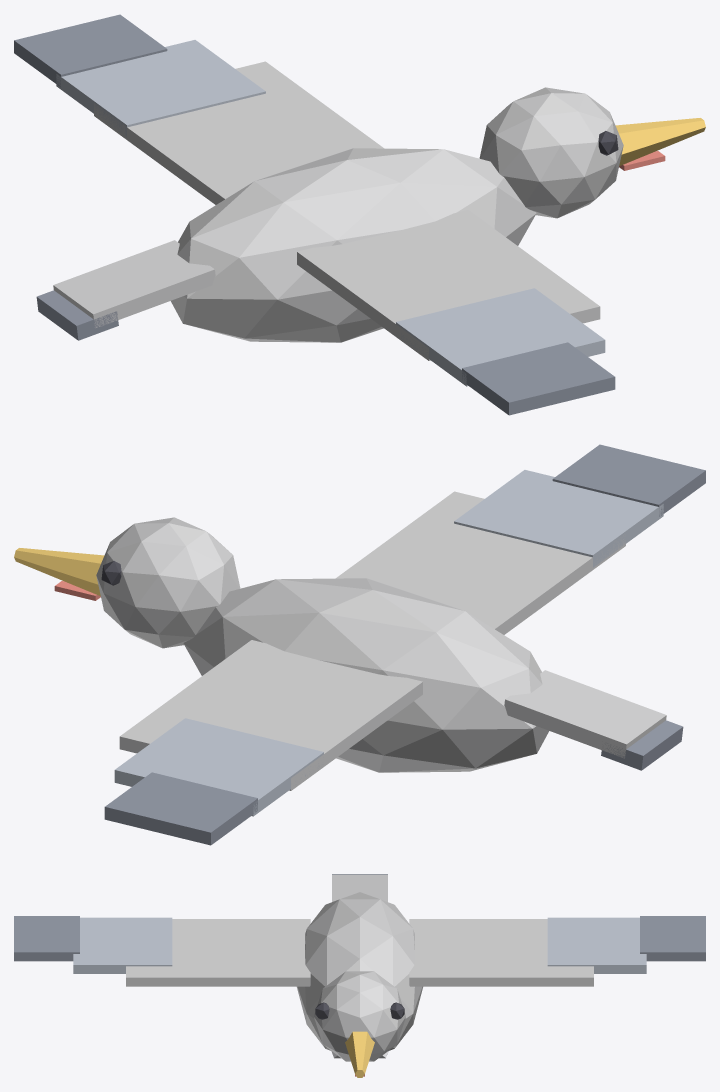
File: Sea_Gull.fbx
The picture shows the model from 3 angles, top to bottom: view 1: azimuth 30°, elevation 25°; view 2: azimuth 150°, elevation 25°; view 3: azimuth 270°, elevation 25°; orthographic projection. The views are drawn at different scales.
Visible parts, largest first — view 1: Body, WingL, WingR, Head, Tail, Beak, TailTip; view 2: Body, WingR, WingL, Head, Tail, Beak, TailTip; view 3: WingL, WingR, Body, Head, Tail, Beak.
Boxes of the visible parts, x1,y1,x2,y2 form: Body: (171,148,536,342); WingL: (297,210,615,415); WingR: (14,14,384,204); Head: (479,87,623,218); Tail: (53,240,215,327); Beak: (615,118,705,165); TailTip: (36,290,118,340); Body: (183,578,548,772); WingR: (104,640,422,845); WingL: (335,444,705,634); Head: (96,517,240,648); Tail: (504,670,666,758); Beak: (14,548,104,595); TailTip: (601,720,683,770); WingL: (14,916,310,986); WingR: (409,916,705,986); Body: (297,892,422,1050); Head: (314,971,405,1061); Tail: (332,874,387,901); Beak: (345,1031,374,1077).
Size of the model in its own units: 1.58 by 0.44 by 2.1.
